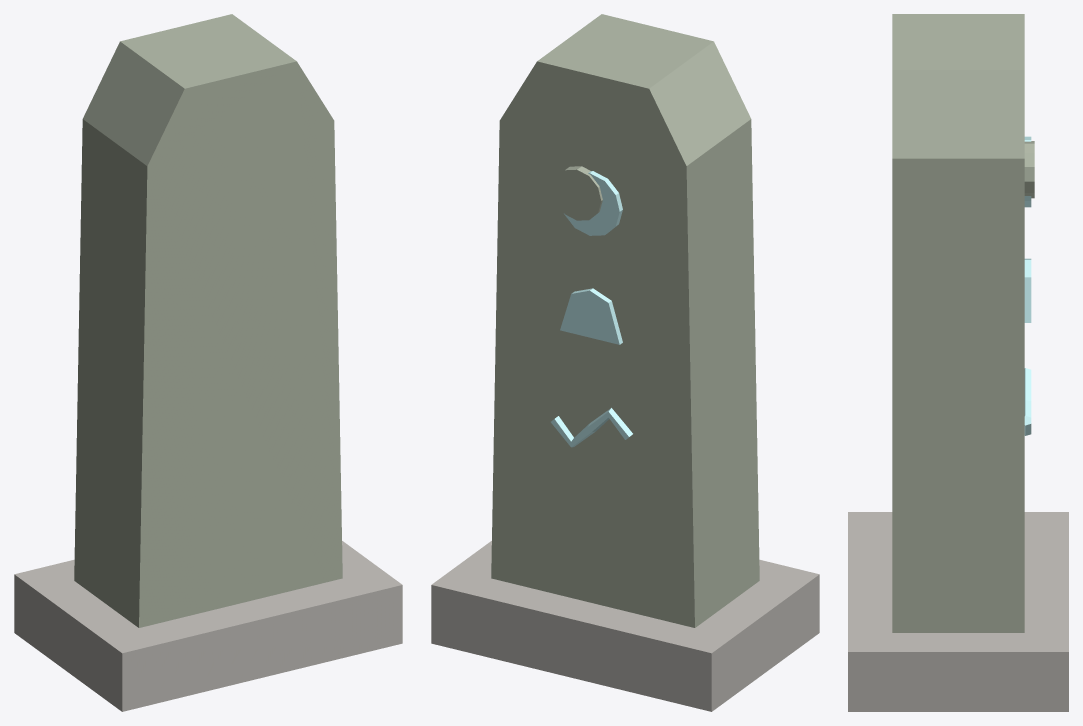
The model's file is stele.glb.
3 views of the same model, side by side, from view 1: azimuth 30°, elevation 25°; view 2: azimuth 150°, elevation 25°; view 3: azimuth 270°, elevation 25° (orthographic). The views are drawn at different scales.
Visible parts, largest first — view 1: stele; view 2: stele; view 3: stele.
Part boxes in pixels (left/top/right/bottom): stele: left=14, top=14, right=402, bottom=711; stele: left=431, top=14, right=819, bottom=711; stele: left=848, top=14, right=1068, bottom=711.
Bounding box in the file's own units: 1.5 × 3 × 0.9999.
